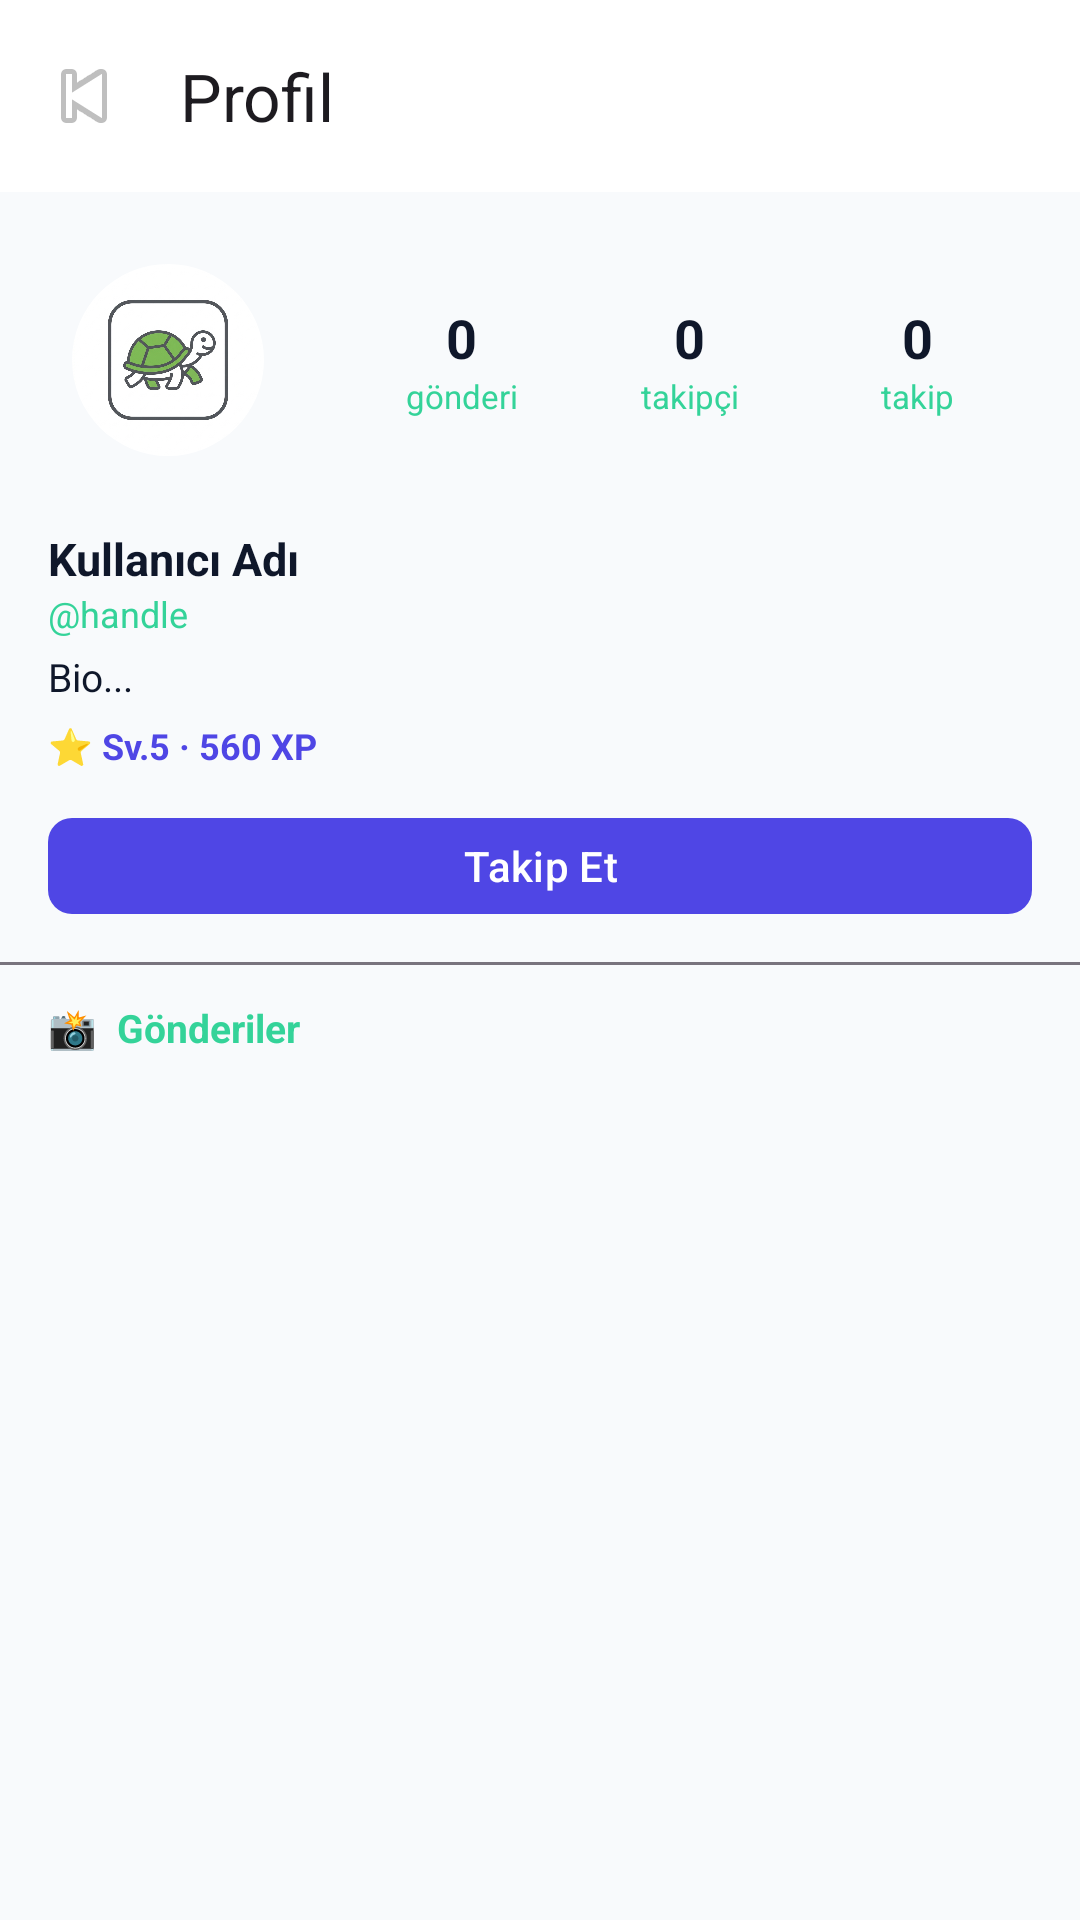

Named icons in this screenshot (1080px×1920px) and their centers, (x,y):
turtle: (168,360)
